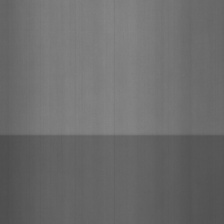welding_line: (1, 126, 224, 147)
